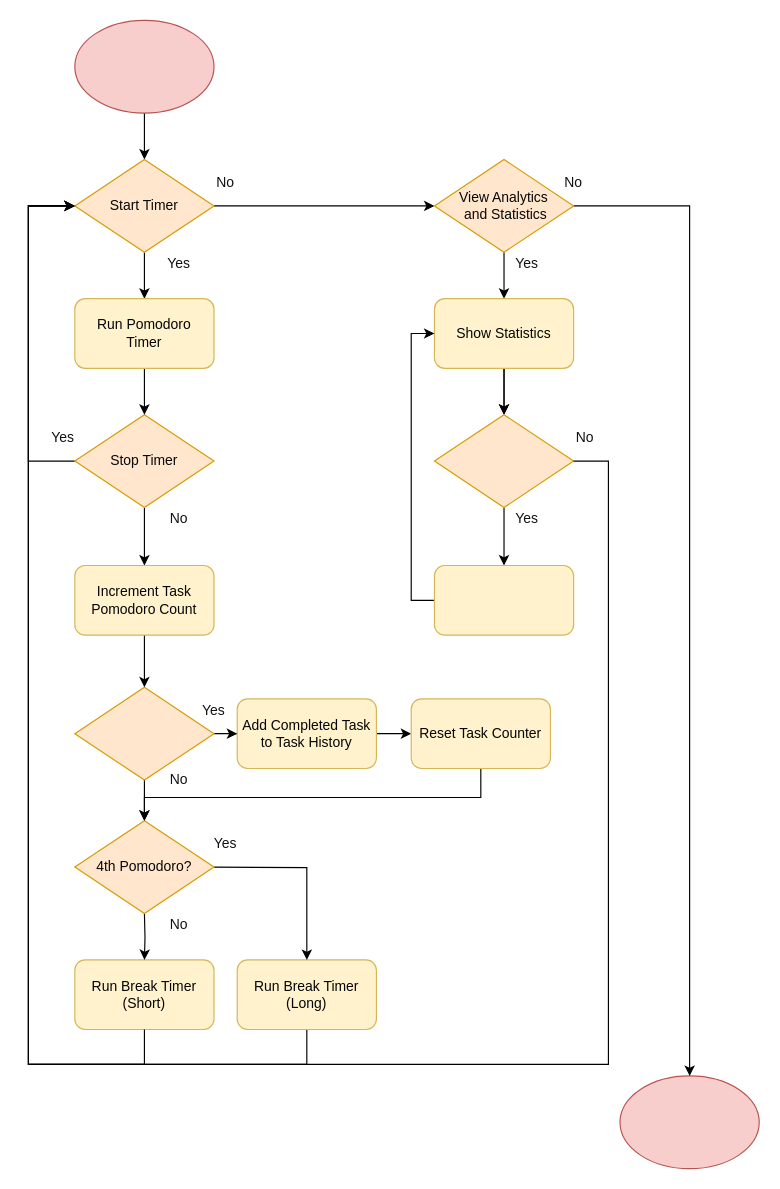
Some shapes in this 780 by 1189 pixel diagram are drawn without their labels. The shapes that lost their labels are listed below. From the top down, each one's box as (x1, y1, x2, y2) in pixels, then its label:
(74, 19, 214, 113): Enter App
(433, 414, 574, 507): Export
(433, 564, 574, 635): Generate / Export Statistics
(74, 686, 214, 780): Stop Current Task
(619, 1075, 759, 1169): Leave App
